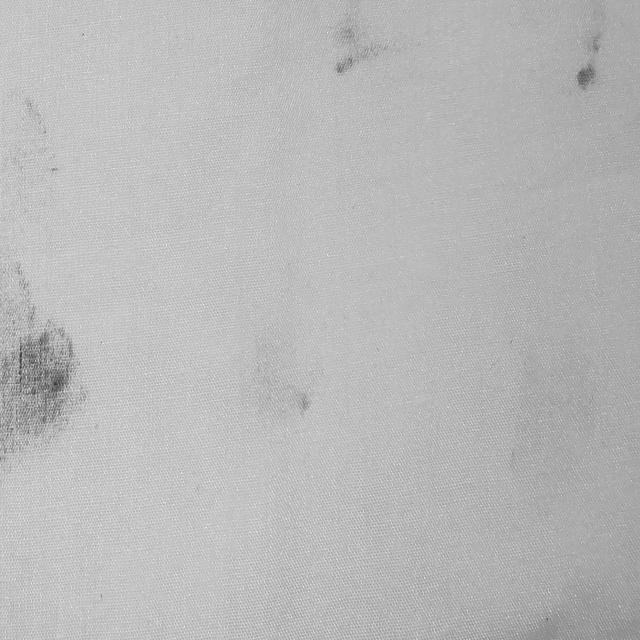Stain: (1, 259, 92, 474), (327, 3, 399, 77), (575, 23, 604, 95), (271, 378, 314, 418)
